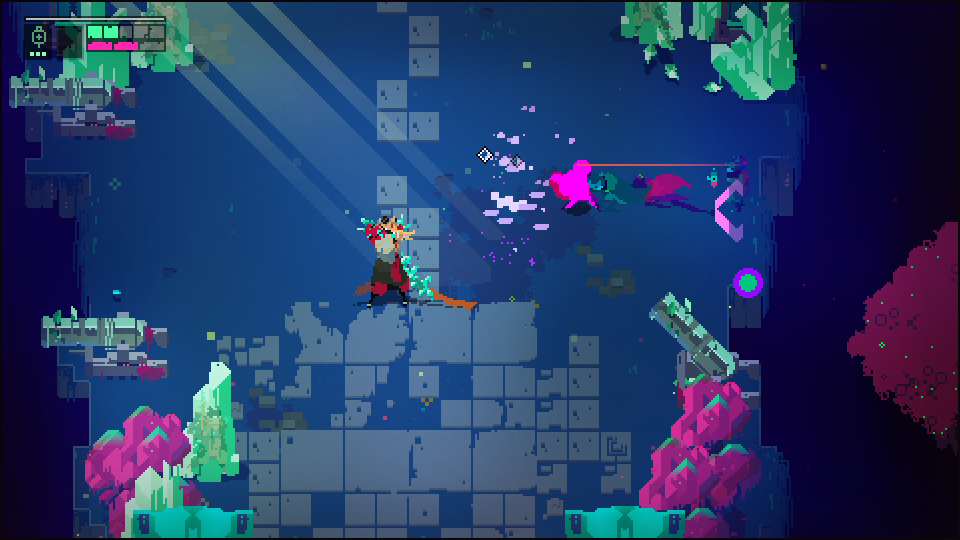hanged_man: (354, 216, 445, 318)
hanged_shot: (732, 266, 765, 303)
player: (548, 157, 594, 212)
